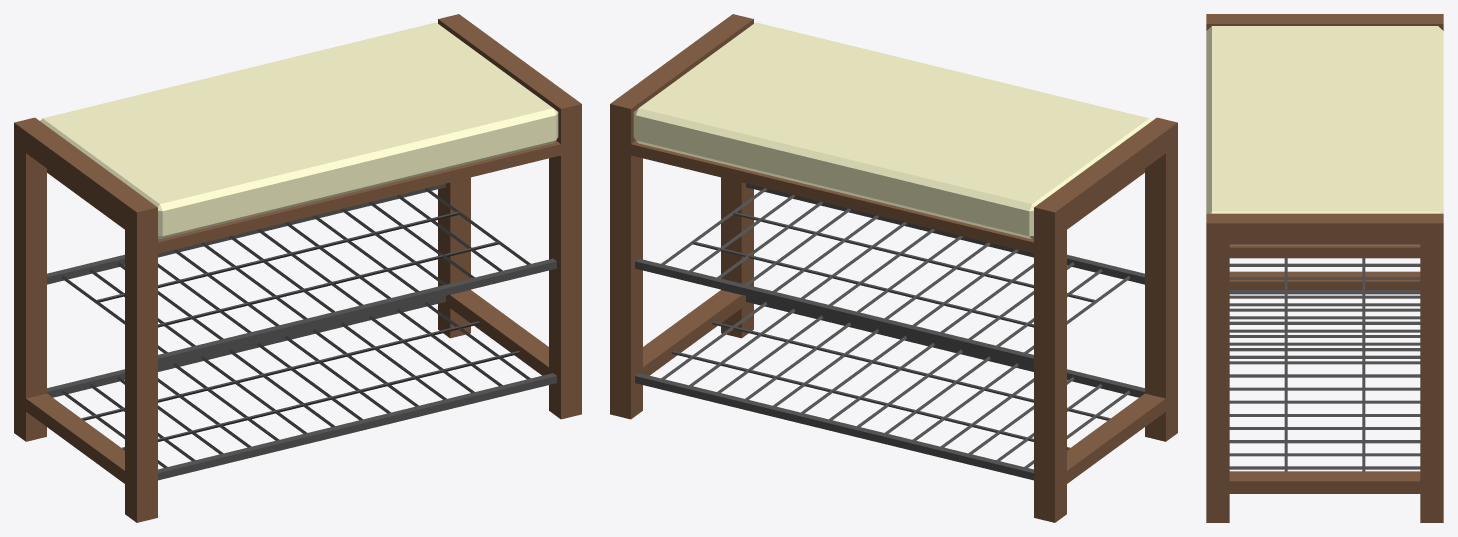
3 views of the same model, side by side, from view 1: azimuth 30°, elevation 25°; view 2: azimuth 150°, elevation 25°; view 3: azimuth 270°, elevation 25° (orthographic). The views are drawn at different scales.
Parts seen in each view (by area): view 1: ShoeRack5; view 2: ShoeRack5; view 3: ShoeRack5.
Part boxes in pixels (x1,y1,x2,y2): ShoeRack5: [14, 14, 581, 522]; ShoeRack5: [610, 14, 1177, 522]; ShoeRack5: [1206, 14, 1443, 522].
Bounding box in the file's own units: 69 × 46 × 33.
